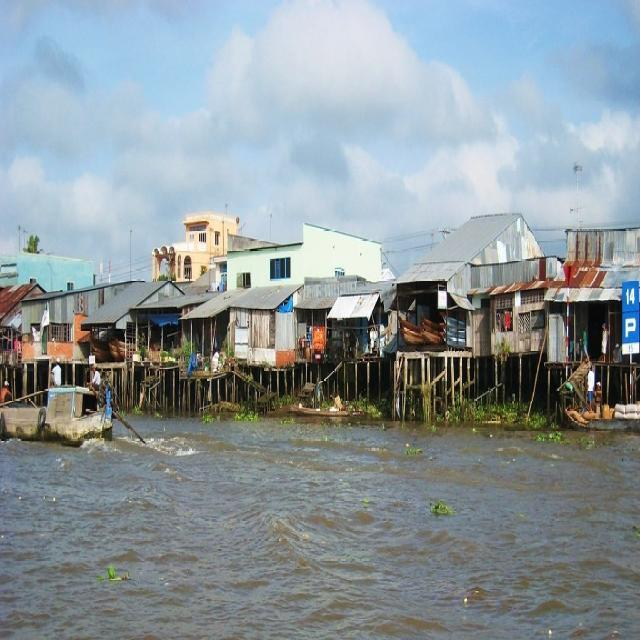Hyacinth: (454, 403, 539, 430), (100, 562, 134, 590), (424, 501, 462, 519), (231, 409, 261, 426), (531, 432, 565, 446), (577, 435, 598, 455), (404, 440, 424, 460), (128, 406, 144, 417), (201, 415, 214, 427)
boat: (289, 400, 357, 422)
